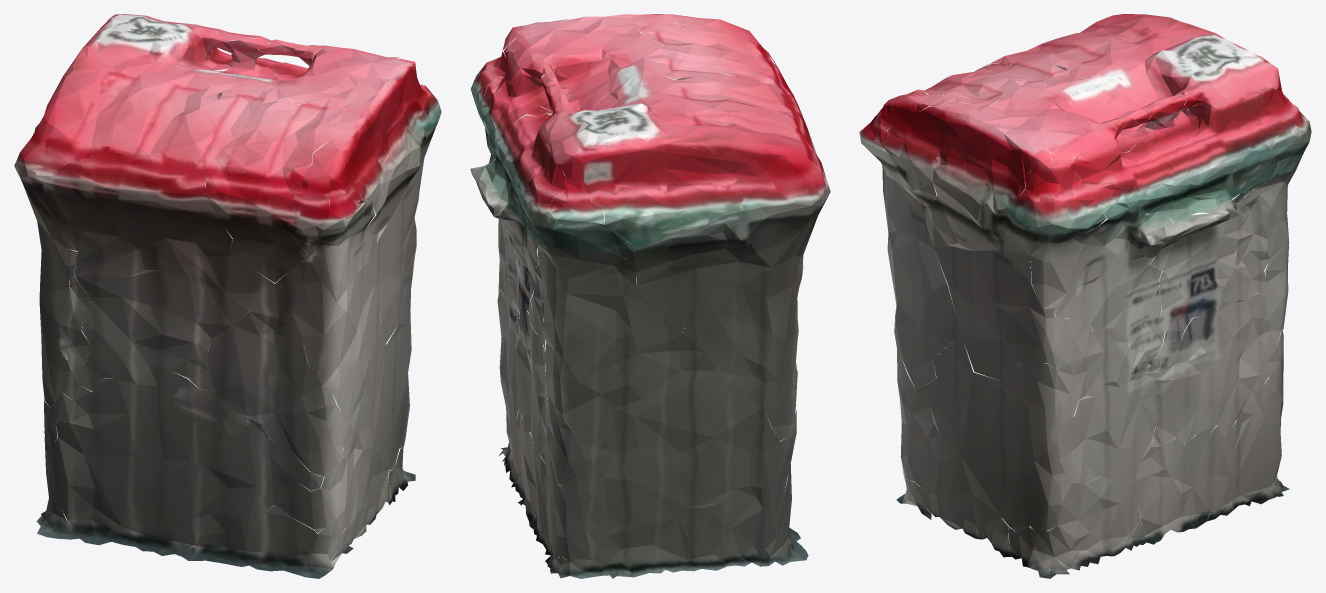
Rendered from trash_can.glb.
3 views of the same model, side by side, from view 1: azimuth 30°, elevation 25°; view 2: azimuth 150°, elevation 25°; view 3: azimuth 270°, elevation 25° (orthographic).
Visible parts, largest first — view 1: Mesh_0.013; view 2: Mesh_0.013; view 3: Mesh_0.013.
Boxes of the visible parts, bbox=[...] form: Mesh_0.013: bbox=[14, 14, 441, 578]; Mesh_0.013: bbox=[470, 14, 830, 578]; Mesh_0.013: bbox=[859, 14, 1311, 578].
Size of the model in its own units: 0.5641 by 0.6184 by 0.5787.
1 material, 1 textured.
